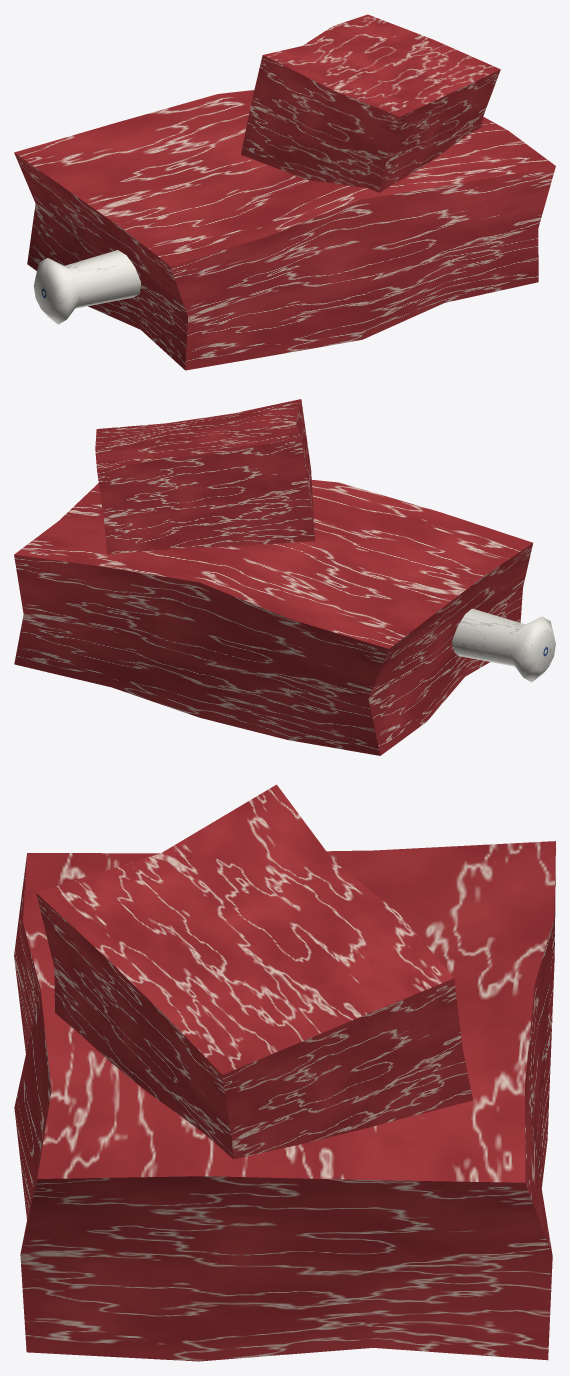
The model's file is thingmeat.obj.
3 views of the same model, one above another, from view 1: azimuth 30°, elevation 25°; view 2: azimuth 150°, elevation 25°; view 3: azimuth 270°, elevation 25° (orthographic). The views are drawn at different scales.
Parts seen in each view (by area): view 1: thingmeat_0_surface; view 2: thingmeat_0_surface; view 3: thingmeat_0_surface.
Boxes of the visible parts, bbox=[...] form: thingmeat_0_surface: bbox=[14, 14, 555, 370]; thingmeat_0_surface: bbox=[14, 399, 555, 755]; thingmeat_0_surface: bbox=[14, 784, 555, 1361].
Bounding box in the file's own units: 0.308 × 0.1554 × 0.1804.
Materials: 1 (1 with a texture image).
